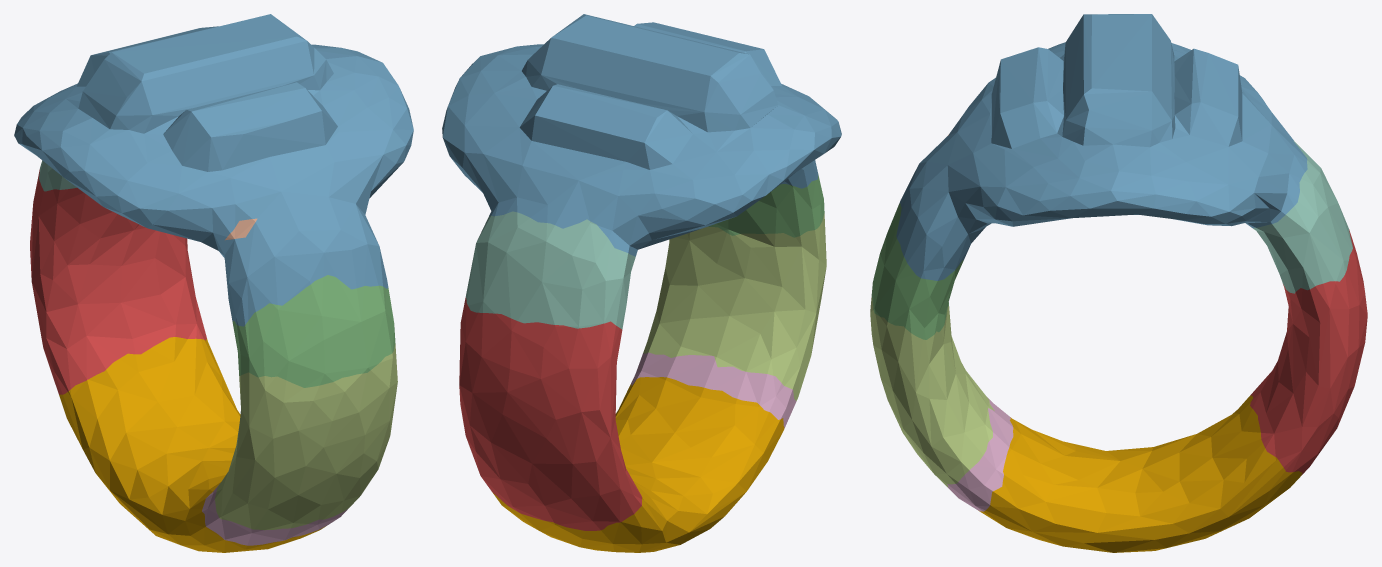
File: fractured_66_8pcs.glb
3 views of the same model, side by side, from view 1: azimuth 30°, elevation 25°; view 2: azimuth 150°, elevation 25°; view 3: azimuth 270°, elevation 25° (orthographic).
Visible parts, largest first — view 1: piece_2.obj, piece_0.obj, piece_1.obj, piece_5.obj, piece_3.obj, piece_6.obj, piece_4.obj; view 2: piece_2.obj, piece_1.obj, piece_0.obj, piece_5.obj, piece_4.obj, piece_6.obj, piece_3.obj; view 3: piece_2.obj, piece_0.obj, piece_1.obj, piece_5.obj, piece_4.obj, piece_3.obj, piece_6.obj.
Part boxes in pixels (box(x1,y1,x2,y2)): piece_2.obj: box(14, 14, 413, 326); piece_0.obj: box(59, 337, 325, 552); piece_1.obj: box(30, 169, 206, 394); piece_5.obj: box(214, 344, 397, 530); piece_3.obj: box(232, 275, 395, 387); piece_6.obj: box(202, 484, 348, 545); piece_4.obj: box(39, 160, 76, 191); piece_2.obj: box(442, 14, 841, 256); piece_1.obj: box(459, 297, 642, 530); piece_0.obj: box(492, 377, 784, 552); piece_5.obj: box(643, 213, 826, 400); piece_4.obj: box(465, 211, 635, 329); piece_6.obj: box(631, 352, 796, 427); piece_3.obj: box(708, 173, 824, 237); piece_2.obj: box(896, 14, 1307, 280); piece_0.obj: box(978, 395, 1302, 552); piece_1.obj: box(1250, 229, 1367, 474); piece_5.obj: box(870, 297, 994, 486); piece_4.obj: box(1253, 141, 1352, 293); piece_3.obj: box(871, 203, 963, 339); piece_6.obj: box(947, 397, 1013, 511).
Size of the model in its own units: 0.7357 by 1 by 0.9353.
